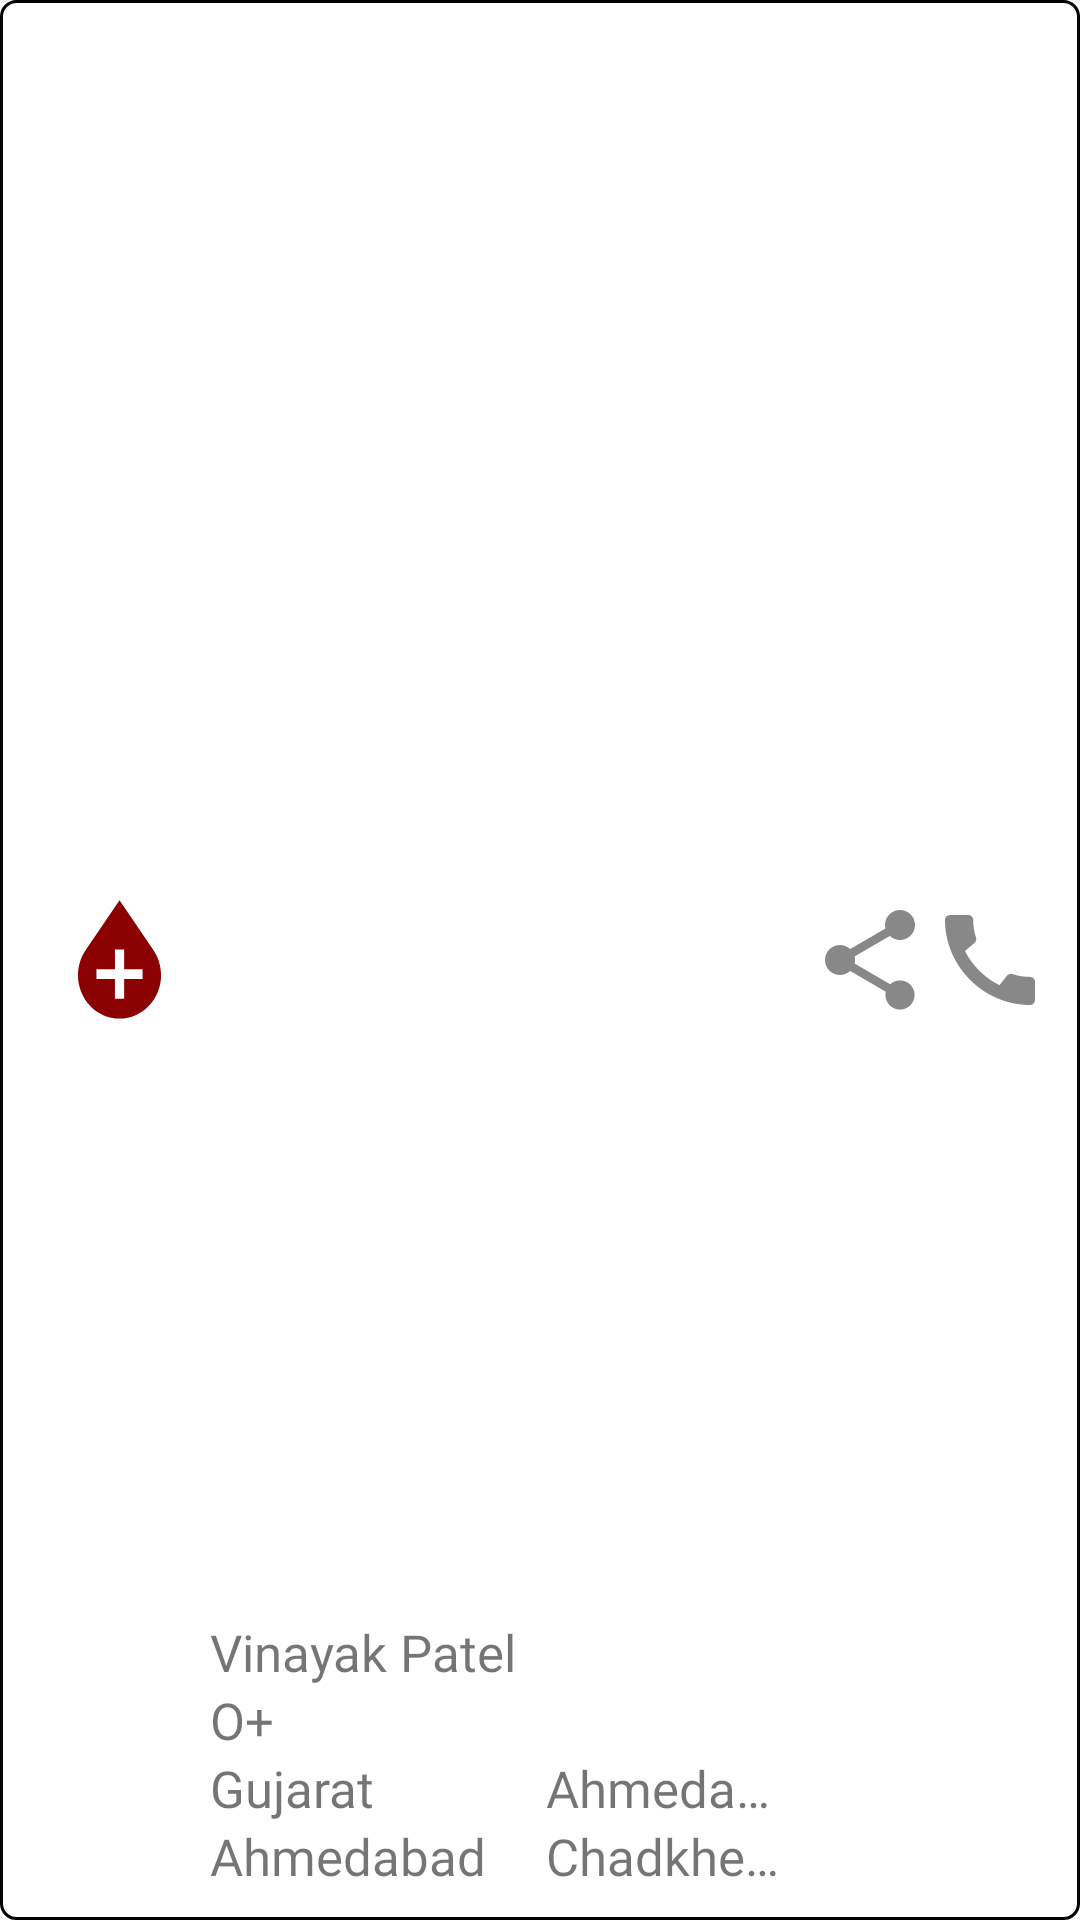

Where to tap for icons on this 1080w x 1920h app screen, as (x,y):
blood drop: (119,959)
call: (990,960)
share: (870,960)
